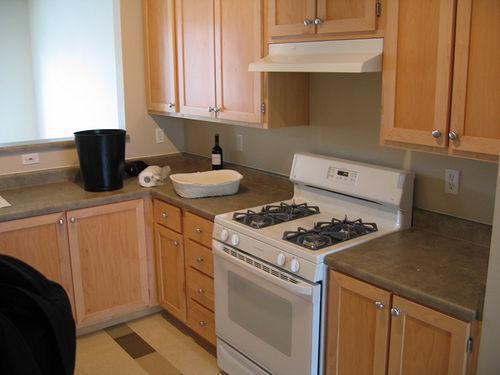Bote de Basura: (72, 124, 125, 188)
Lavaplatos: (0, 189, 14, 216)
